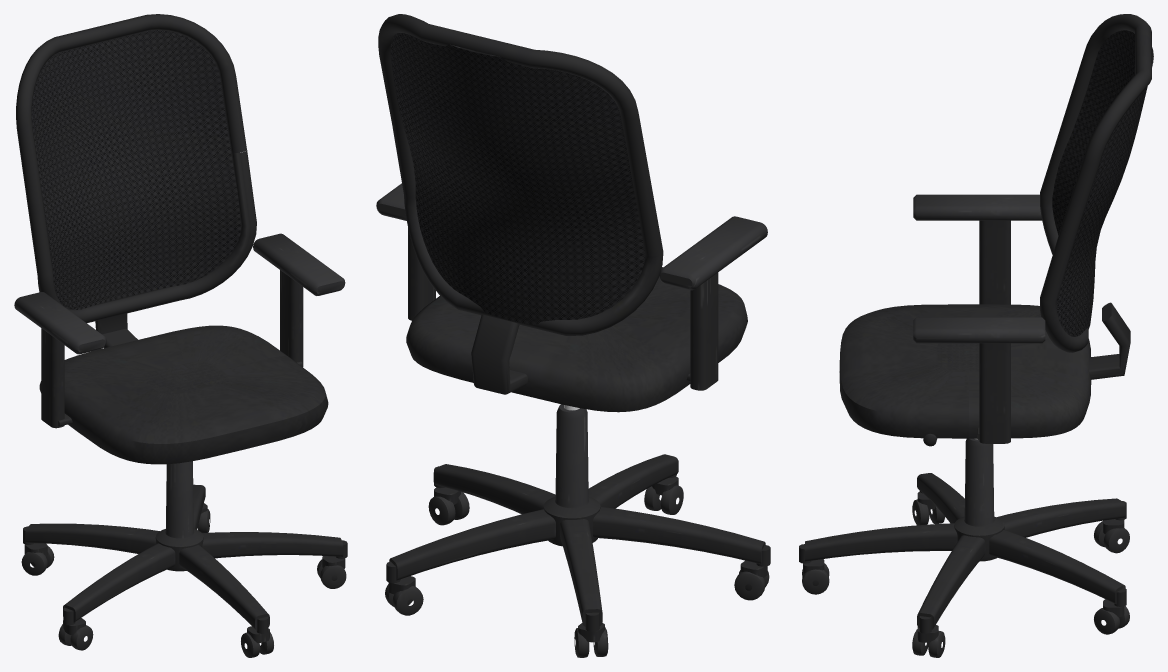
File: office-chair.glb
3 views of the same model, side by side, from view 1: azimuth 30°, elevation 25°; view 2: azimuth 150°, elevation 25°; view 3: azimuth 270°, elevation 25° (orthographic). The views are drawn at different scales.
Parts seen in each view (by area): view 1: seat_mesh, office-chair_base; view 2: seat_mesh, office-chair_base; view 3: seat_mesh, office-chair_base.
Boxes of the visible parts, box(x1,y1,x2,y2) form: seat_mesh: box(14, 14, 345, 464); office-chair_base: box(21, 461, 347, 657); seat_mesh: box(376, 14, 767, 412); office-chair_base: box(385, 404, 770, 657); seat_mesh: box(839, 14, 1153, 446); office-chair_base: box(799, 438, 1129, 657).
Size of the model in its own units: 0.652 by 1.13 by 0.6716.
Materials: 1 (1 with a texture image).
